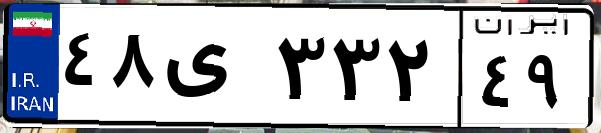2: (385, 28, 445, 110)
3: (270, 28, 330, 110), (330, 28, 385, 110)
4: (57, 26, 110, 100), (475, 38, 525, 113)
8: (110, 28, 158, 98)
9: (525, 38, 570, 115)
ی: (158, 20, 270, 120)
